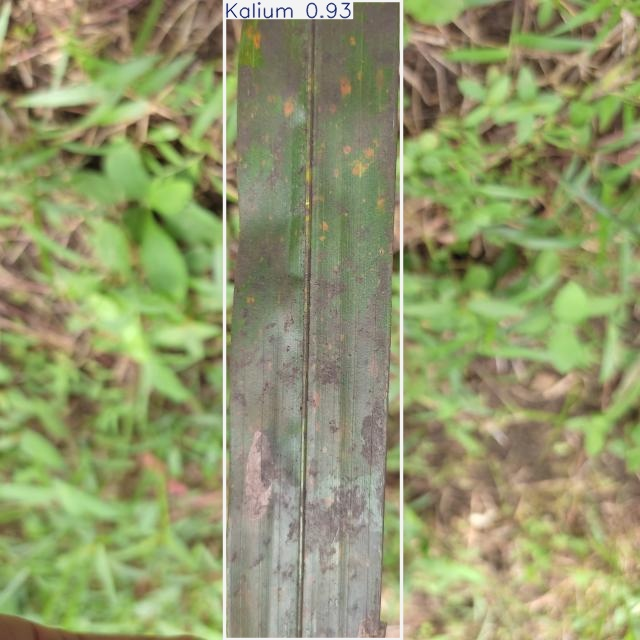Kalium: (225, 0, 401, 640)
